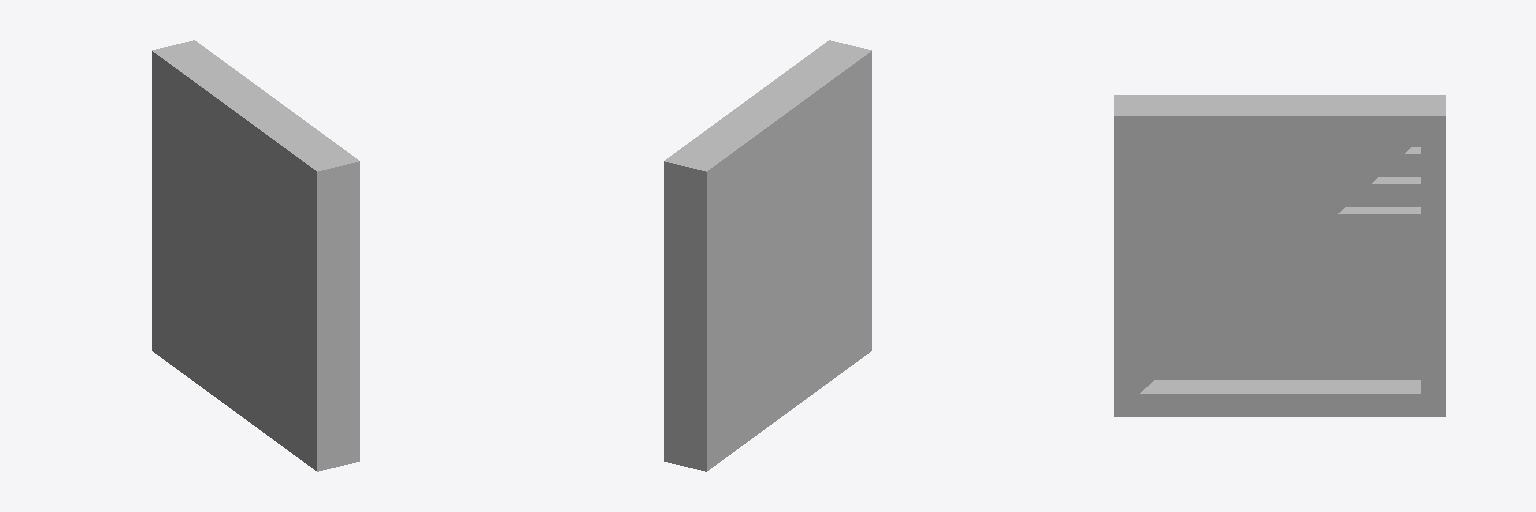
The model's file is window2.obj.
3 renders of one model, left to right at view 1: azimuth 30°, elevation 25°; view 2: azimuth 150°, elevation 25°; view 3: azimuth 270°, elevation 25°, orthographic.
Parts seen in each view (by area): view 1: Window_Cube.003, Interior_interior_Cube.001; view 2: Window_Cube.003, Interior_interior_Cube.001; view 3: Window_Cube.003, Interior_interior_Cube.001.
Part boxes in pixels (x1,y1,x2,y2): Window_Cube.003: (152, 40, 359, 471); Interior_interior_Cube.001: (164, 82, 304, 439); Window_Cube.003: (664, 40, 871, 471); Interior_interior_Cube.001: (719, 83, 859, 439); Window_Cube.003: (1114, 95, 1445, 416); Interior_interior_Cube.001: (1155, 139, 1420, 379).
Bounding box in the file's own units: 0.3 × 2 × 2.